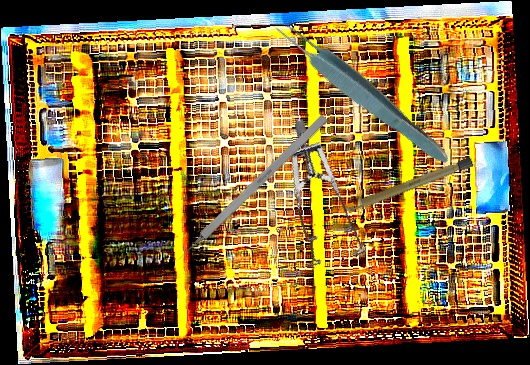Hook Surgical: (169, 113, 329, 269)
Scalpel Handle: (341, 155, 475, 216)
Speculum: (256, 116, 398, 282)
Tissue Forceps: (268, 11, 457, 172)
